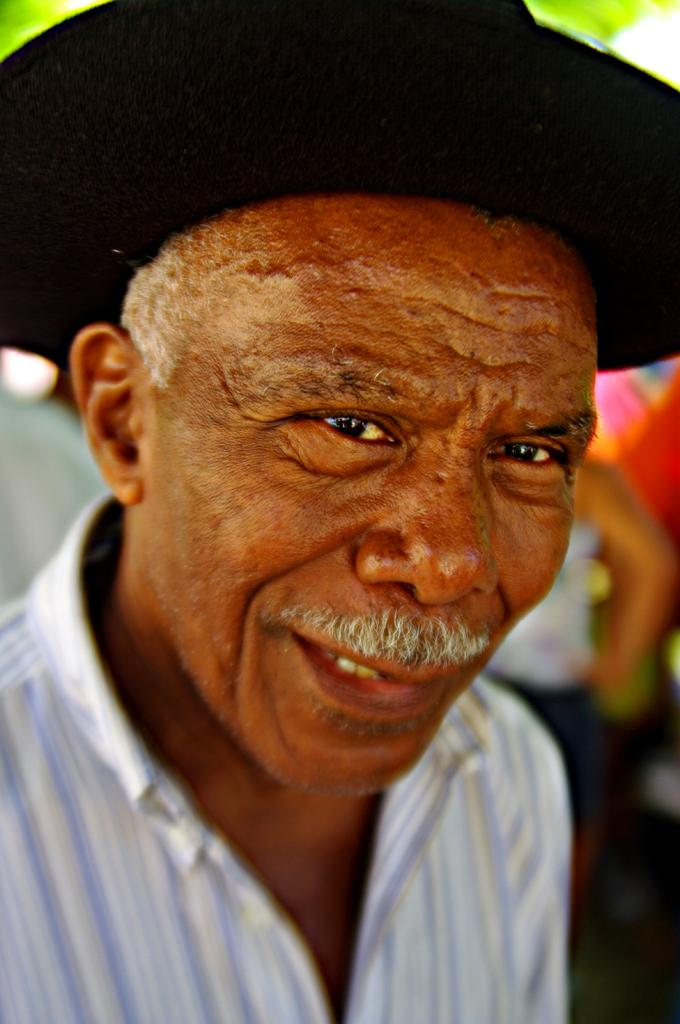Hat: (0, 0, 679, 373)
